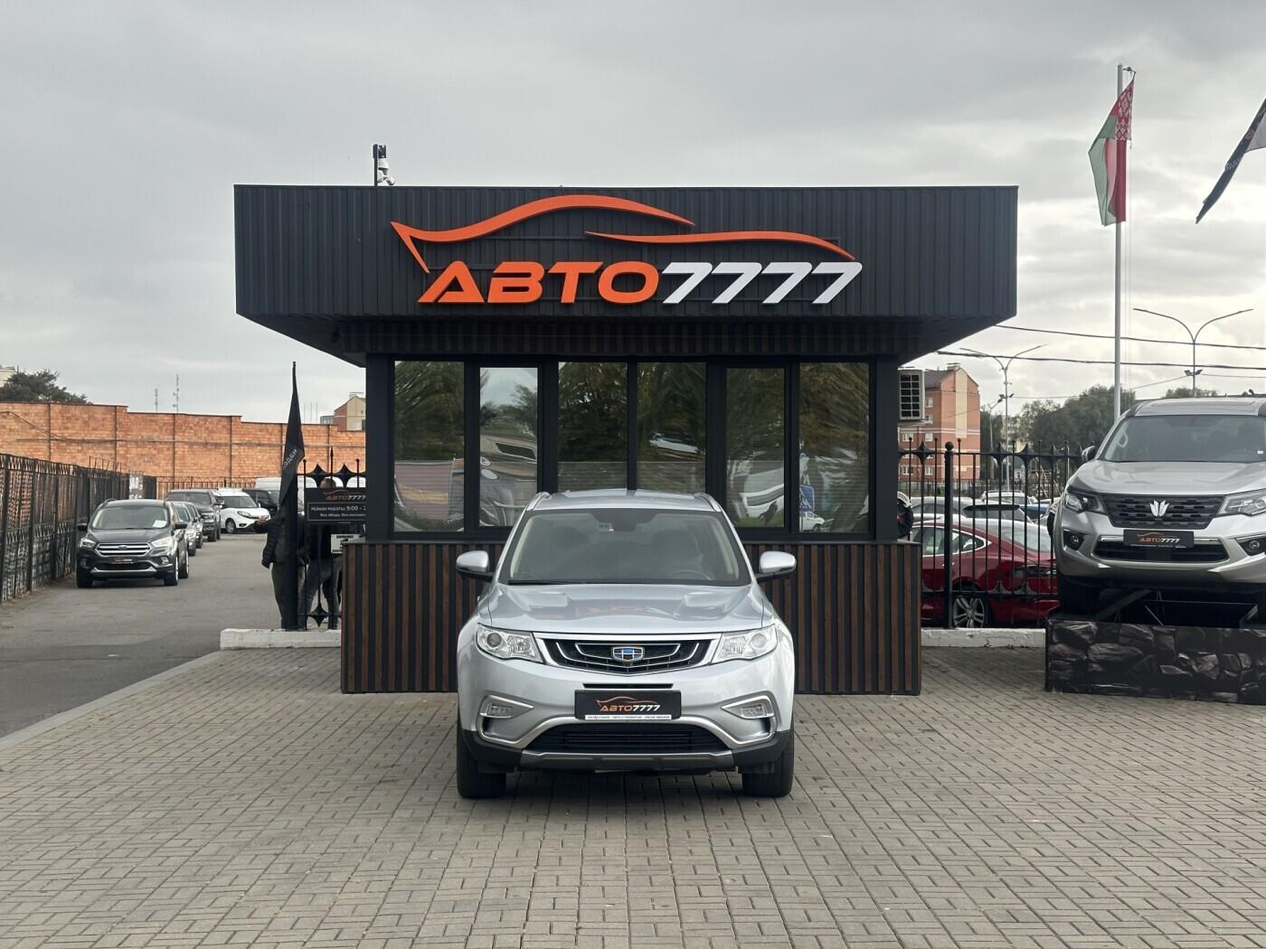Atlas_2016-2023: (443, 487, 806, 819)
